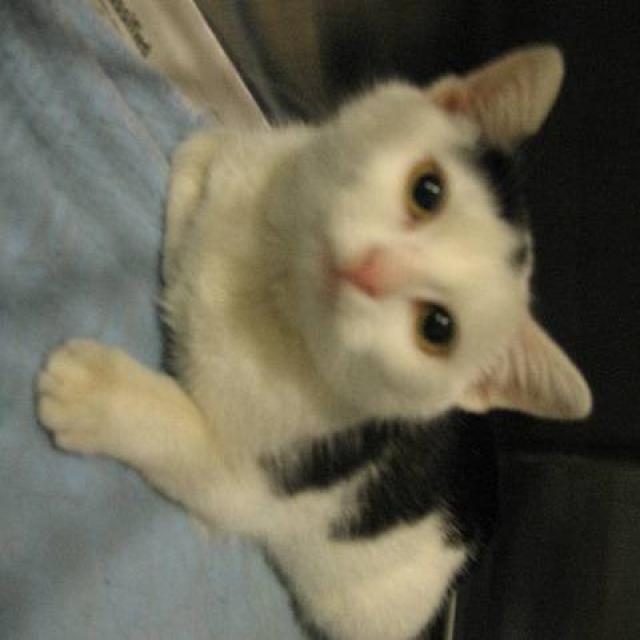cat: (32, 39, 593, 638)
